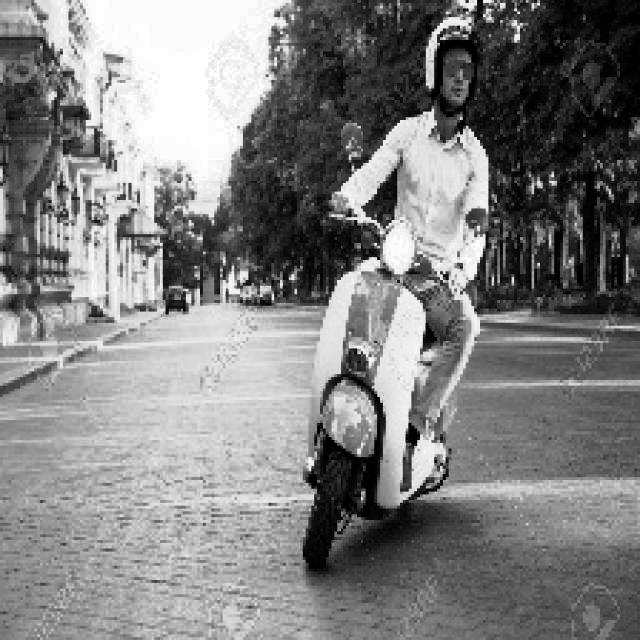Bike: (297, 197, 435, 574)
